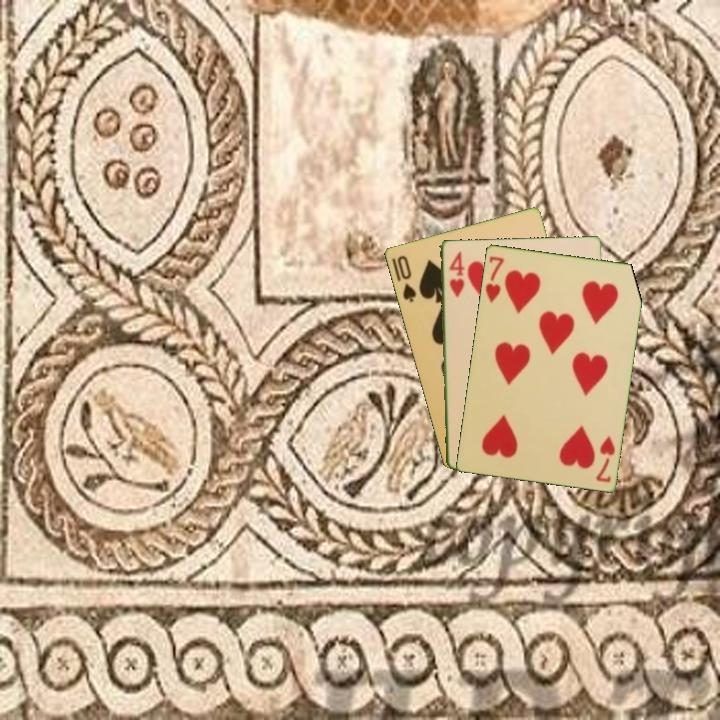10s: (393, 252, 419, 305)
4h: (445, 248, 466, 299)
7h: (481, 252, 507, 305), (592, 432, 618, 485)
